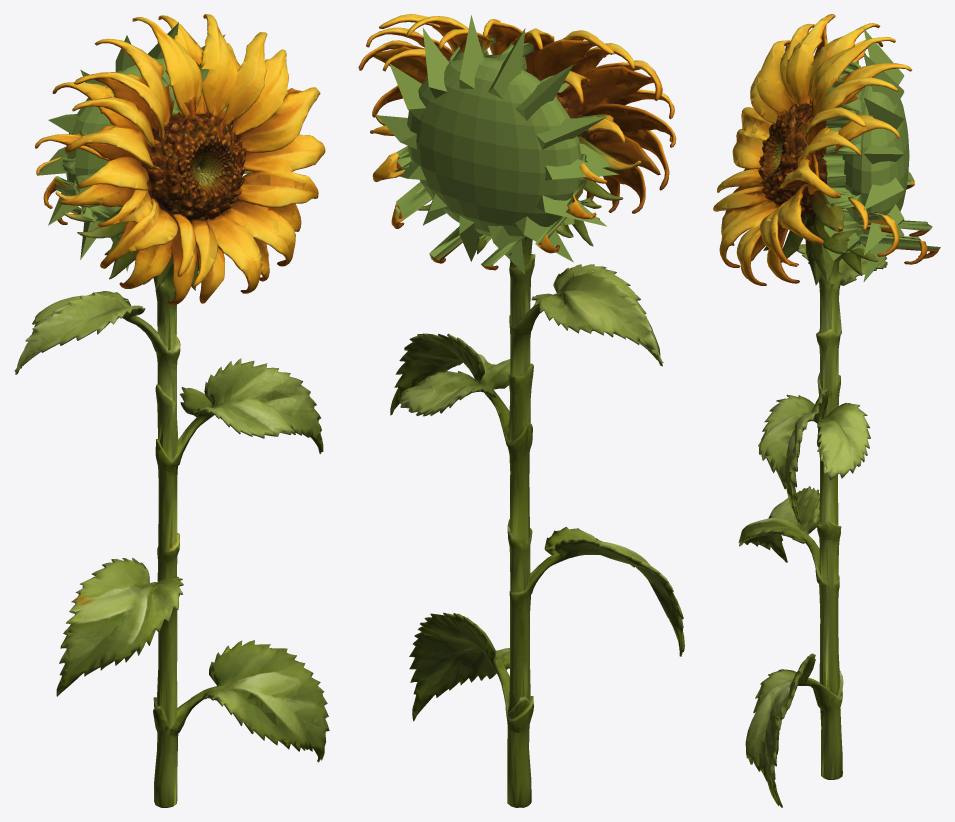
File: sunflower.glb
3 renders of one model, left to right at view 1: azimuth 30°, elevation 25°; view 2: azimuth 150°, elevation 25°; view 3: azimuth 270°, elevation 25°, orthographic. The views are drawn at different scales.
Parts seen in each view (by area): view 1: tripo_node_1768c57a, 背面_花托; view 2: tripo_node_1768c57a, 背面_花托, 背面_萼片_05, 背面_萼片_03, 背面_萼片_04, 背面_萼片_02, 背面_萼片_06, 背面_萼片_01, 背面_萼片_07, 背面_萼片_10, 背面_萼片_09, 背面_萼片_08 (+2 smaller); view 3: tripo_node_1768c57a, 背面_花托, 背面_萼片_00, 背面_萼片_04, 背面_萼片_03, 背面_萼片_01, 背面_萼片_13, 背面_萼片_02, 背面_萼片_12.
Boxes of the visible parts, left/top/right/bottom form: tripo_node_1768c57a: left=14, top=14, right=329, bottom=807; 背面_花托: left=65, top=58, right=232, bottom=222; tripo_node_1768c57a: left=358, top=14, right=684, bottom=807; 背面_花托: left=407, top=57, right=581, bottom=237; 背面_萼片_05: left=515, top=64, right=573, bottom=120; 背面_萼片_03: left=459, top=15, right=484, bottom=88; 背面_萼片_04: left=488, top=28, right=525, bottom=98; 背面_萼片_02: left=422, top=27, right=448, bottom=98; 背面_萼片_06: left=536, top=116, right=607, bottom=149; 背面_萼片_01: left=389, top=64, right=425, bottom=119; 背面_萼片_07: left=545, top=159, right=619, bottom=180; 背面_萼片_10: left=488, top=225, right=525, bottom=274; 背面_萼片_09: left=515, top=216, right=573, bottom=262; 背面_萼片_08: left=536, top=195, right=606, bottom=226; tripo_node_1768c57a: left=713, top=14, right=940, bottom=807; 背面_花托: left=840, top=85, right=909, bottom=243; 背面_萼片_00: left=864, top=177, right=903, bottom=209; 背面_萼片_04: left=863, top=28, right=904, bottom=84; 背面_萼片_03: left=863, top=53, right=903, bottom=105; 背面_萼片_01: left=863, top=144, right=904, bottom=163; 背面_萼片_13: left=863, top=204, right=904, bottom=255; 背面_萼片_02: left=864, top=98, right=903, bottom=129; 背面_萼片_12: left=863, top=225, right=904, bottom=281.
Bounding box in the file's own units: 0.6476 × 1.6 × 0.4464.
2 materials, 1 textured.
